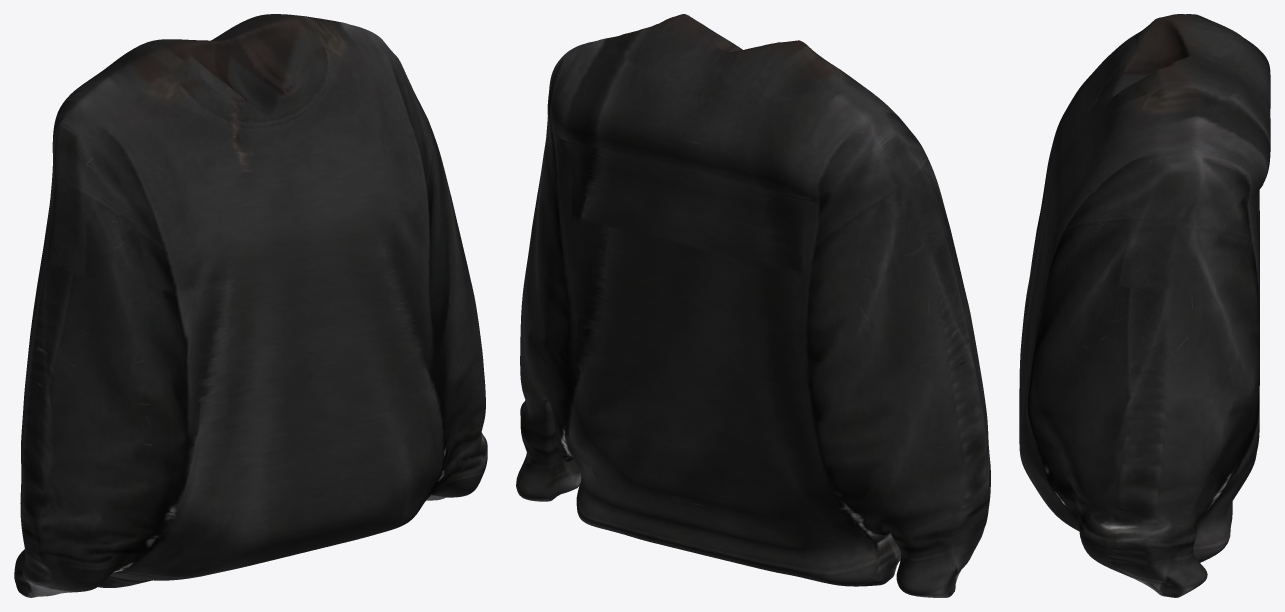
Rendered from NF015-worn-v3.glb.
3 views of the same model, side by side, from view 1: azimuth 30°, elevation 25°; view 2: azimuth 150°, elevation 25°; view 3: azimuth 270°, elevation 25° (orthographic). The views are drawn at different scales.
Visible parts, largest first — view 1: NF015_worn_photo_fitted; view 2: NF015_worn_photo_fitted; view 3: NF015_worn_photo_fitted.
Boxes of the visible parts, bbox=[...] form: NF015_worn_photo_fitted: bbox=[14, 14, 487, 597]; NF015_worn_photo_fitted: bbox=[516, 14, 990, 597]; NF015_worn_photo_fitted: bbox=[1019, 14, 1270, 597].
Size of the model in its own units: 0.5692 by 0.6167 by 0.2996.
Materials: 1 (1 with a texture image).
